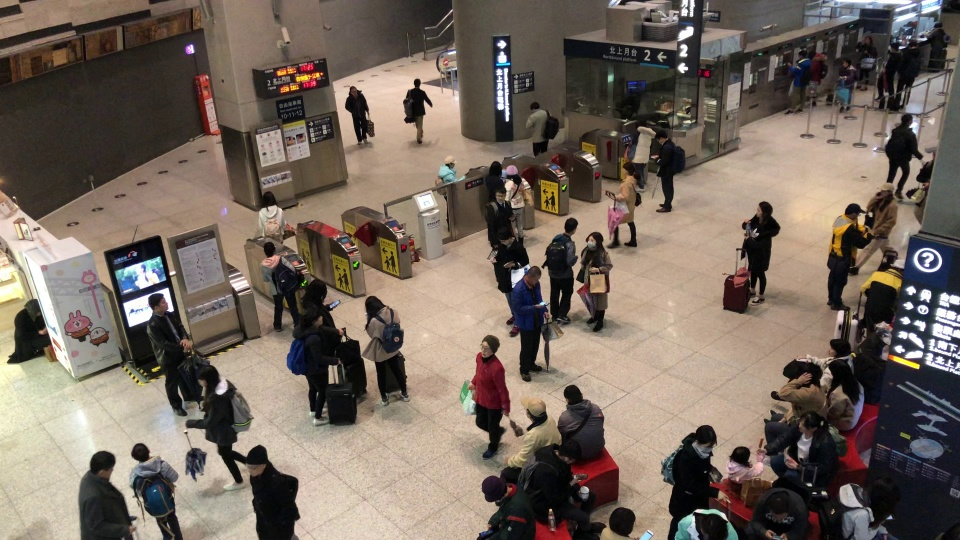person_head: (870, 474, 898, 513), (608, 505, 636, 536), (698, 513, 728, 540), (798, 411, 827, 436), (246, 445, 268, 477), (480, 475, 506, 502), (89, 450, 114, 478), (519, 396, 547, 421), (694, 424, 718, 453), (828, 360, 852, 386), (767, 492, 790, 519), (796, 363, 821, 387), (558, 438, 581, 464), (479, 333, 500, 358), (197, 364, 219, 387), (305, 279, 326, 303), (827, 338, 852, 357), (364, 294, 384, 317), (147, 293, 169, 313), (844, 201, 866, 221), (730, 445, 750, 465), (584, 230, 604, 249), (755, 199, 774, 219), (130, 443, 150, 461), (563, 383, 581, 402), (306, 309, 323, 327), (497, 227, 513, 246), (564, 216, 578, 236), (25, 298, 40, 316), (261, 190, 276, 208), (526, 265, 541, 283), (488, 160, 503, 176), (263, 240, 277, 257), (506, 164, 520, 180), (494, 185, 507, 202), (655, 129, 669, 144), (879, 180, 893, 195), (623, 161, 634, 177), (901, 113, 914, 126), (888, 41, 900, 54), (932, 20, 943, 30), (530, 100, 539, 112), (636, 118, 646, 128), (413, 77, 421, 89), (864, 34, 873, 44), (843, 57, 850, 69), (349, 86, 357, 96), (798, 48, 806, 57), (809, 48, 816, 58), (908, 40, 917, 47)
person_vbox: (517, 438, 606, 540), (659, 424, 731, 540), (186, 363, 248, 491), (761, 358, 866, 431), (761, 363, 828, 468), (285, 308, 340, 428), (146, 292, 198, 415), (465, 333, 511, 461), (498, 395, 563, 485), (769, 410, 839, 491), (360, 295, 410, 407), (126, 442, 183, 538), (769, 338, 853, 403), (825, 202, 874, 311), (78, 451, 137, 540), (818, 473, 897, 539), (245, 444, 299, 540), (847, 181, 897, 276), (511, 265, 551, 380), (739, 200, 781, 308), (489, 227, 530, 336), (747, 474, 812, 540), (475, 474, 536, 539), (556, 383, 606, 461), (543, 216, 578, 326), (576, 231, 613, 333), (884, 110, 925, 201), (259, 240, 299, 333), (604, 160, 641, 249), (650, 128, 686, 214), (7, 298, 51, 364), (435, 154, 466, 233), (504, 164, 533, 245), (673, 507, 739, 539), (782, 47, 813, 115), (627, 116, 655, 191), (402, 77, 433, 144), (525, 99, 559, 156), (483, 186, 515, 246), (725, 443, 766, 488), (895, 40, 921, 106), (257, 190, 288, 242), (874, 41, 900, 103), (344, 85, 370, 145), (854, 34, 878, 92), (600, 506, 642, 539), (838, 57, 858, 115), (809, 48, 828, 107), (484, 159, 504, 202), (927, 19, 952, 50), (444, 154, 456, 168)
